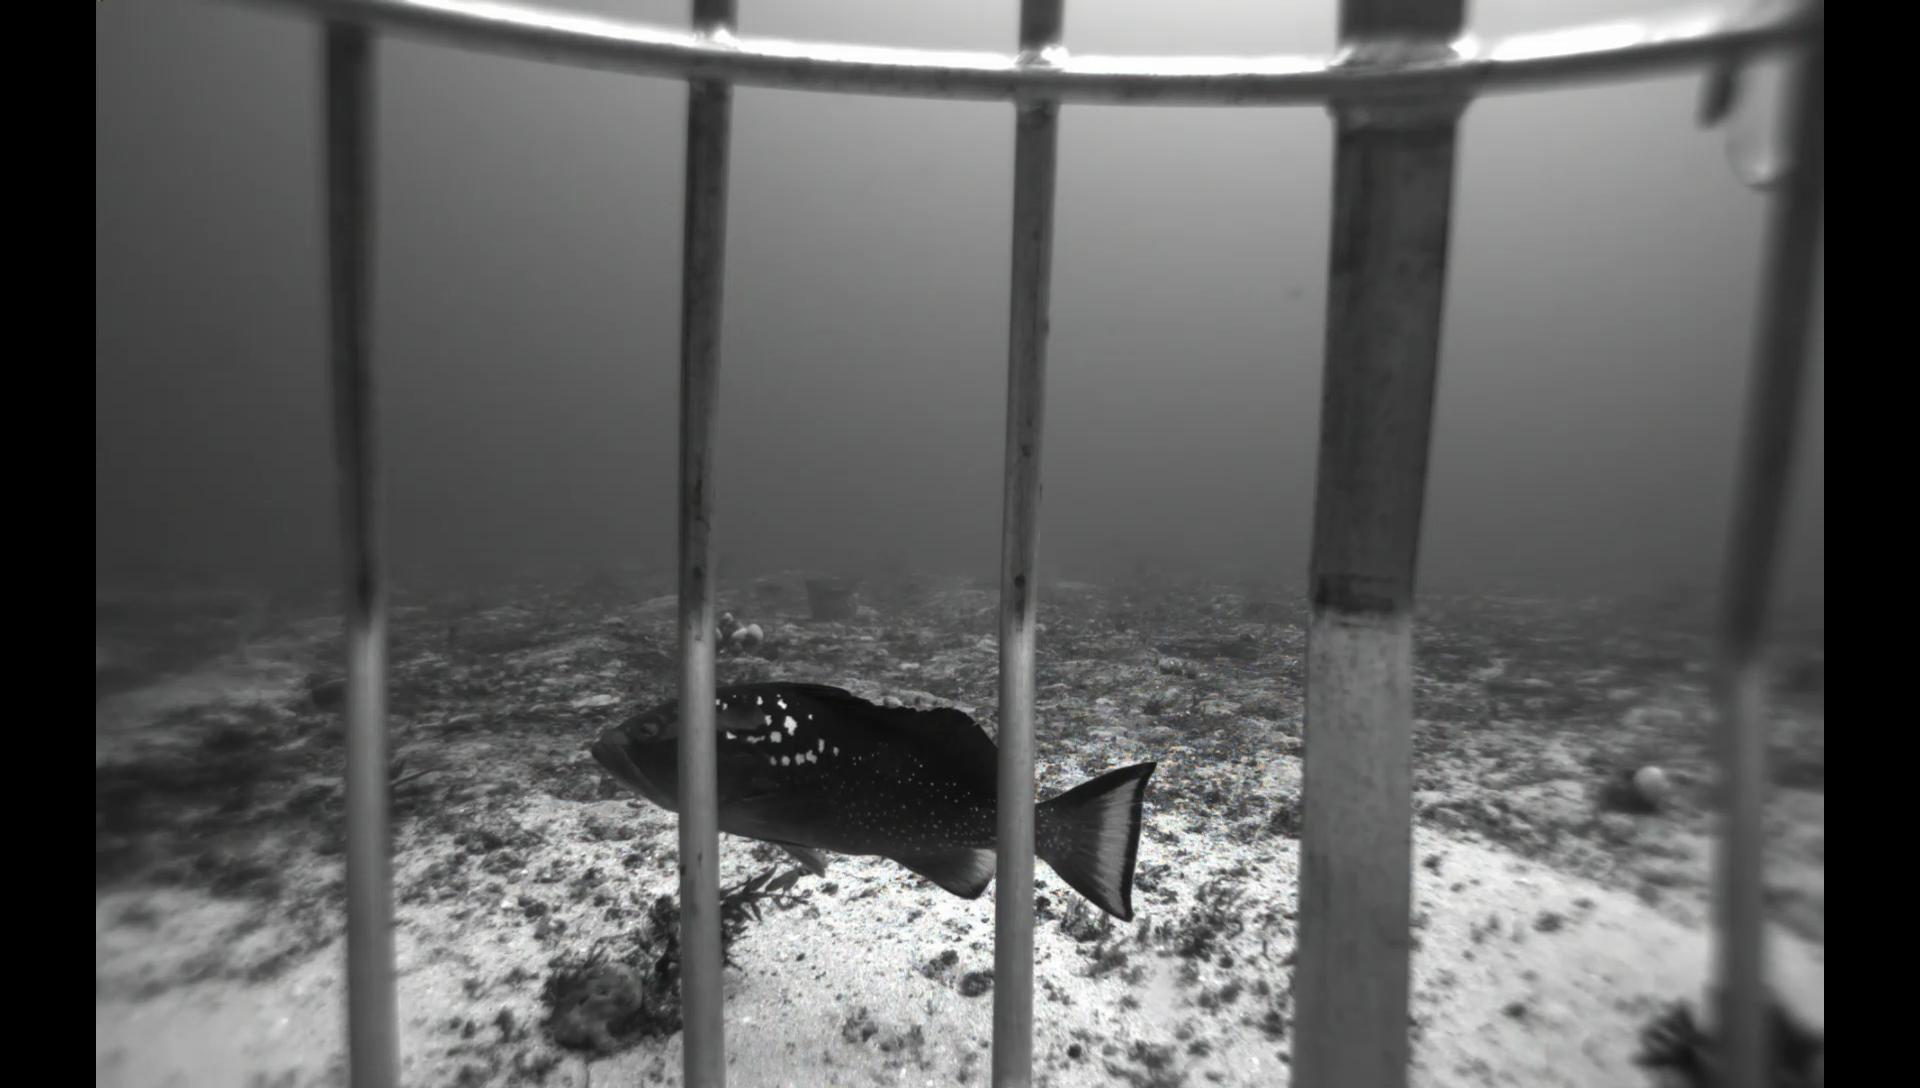CHAETODONOCELLATUS-170260307: (1451, 589, 1489, 621), (1412, 596, 1433, 622)
EPINEPHELUSMORIO-170021211: (571, 673, 1162, 935)
PRISTIGENYSALTA-170050401: (294, 674, 344, 717)
